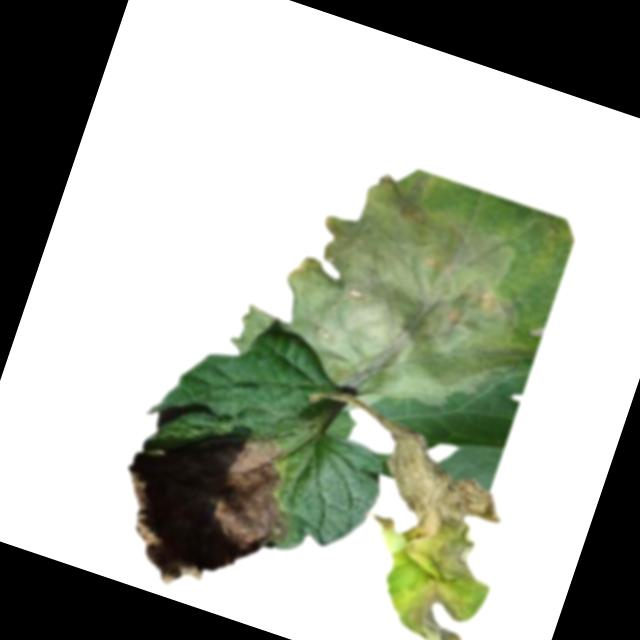Late_blight: (260, 142, 578, 442), (319, 414, 535, 640), (96, 400, 317, 618)
